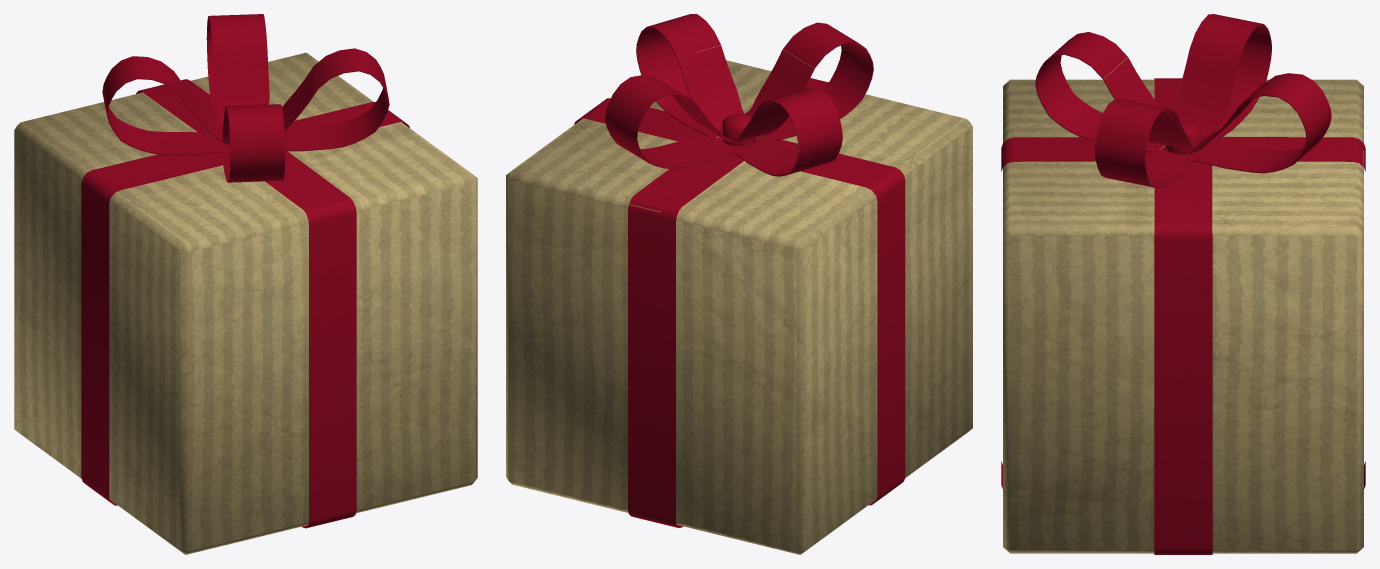
Rendered from present_1_low_poly.glb.
3 views of the same model, side by side, from view 1: azimuth 30°, elevation 25°; view 2: azimuth 150°, elevation 25°; view 3: azimuth 270°, elevation 25° (orthographic). The views are drawn at different scales.
Parts seen in each view (by area): view 1: christmas present; view 2: christmas present; view 3: christmas present.
Part boxes in pixels (bbox=[...]): christmas present: bbox=[14, 14, 477, 554]; christmas present: bbox=[506, 14, 972, 554]; christmas present: bbox=[1001, 14, 1365, 554].
Bounding box in the file's own units: 40.39 × 51.28 × 40.29.
Materials: 1 (1 with a texture image).
